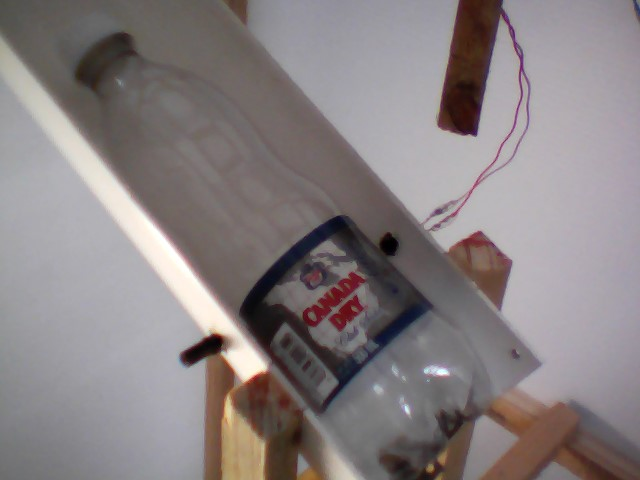plastico: (54, 5, 496, 478)
